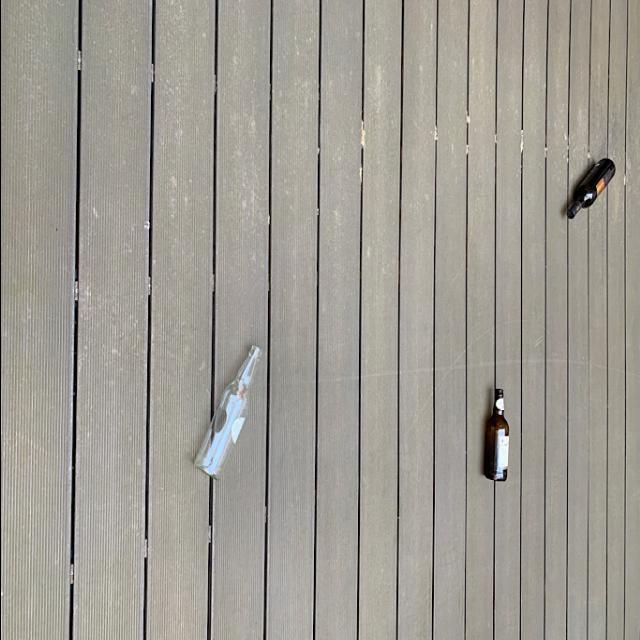Glass Bottle: (190, 344, 262, 488), (560, 156, 614, 226), (484, 380, 512, 484)
